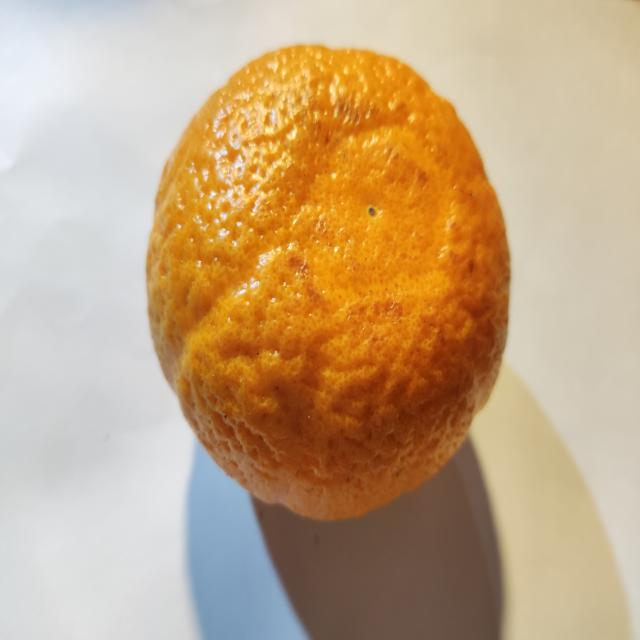orange: (148, 47, 509, 518)
